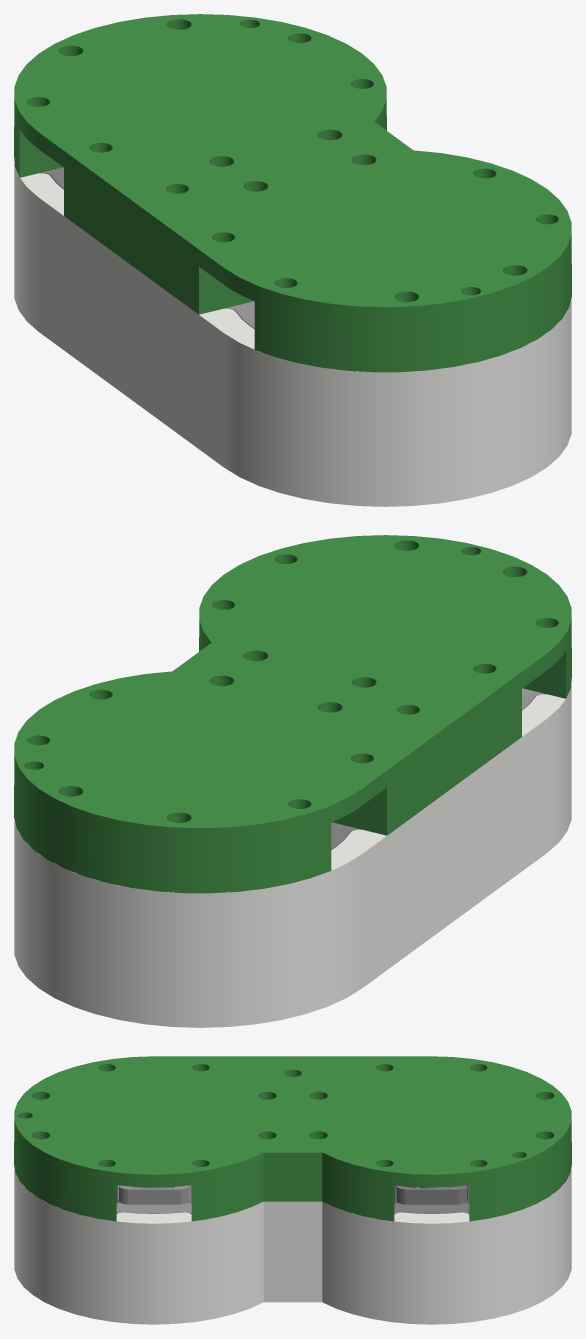
Rendered from RS03_RightKneePitch.dae.
The picture shows the model from 3 angles, top to bottom: view 1: azimuth 30°, elevation 25°; view 2: azimuth 150°, elevation 25°; view 3: azimuth 270°, elevation 25°; orthographic projection. The views are drawn at different scales.
Parts seen in each view (by area): view 1: RS03_RightKneePitch; view 2: RS03_RightKneePitch; view 3: RS03_RightKneePitch.
Part boxes in pixels (x1=…): RS03_RightKneePitch: x1=14, y1=14, x2=571, y2=506; RS03_RightKneePitch: x1=14, y1=535, x2=571, y2=1027; RS03_RightKneePitch: x1=14, y1=1056, x2=571, y2=1324.
Bounding box in the file's own units: 0.112 × 0.223 × 0.0661.
